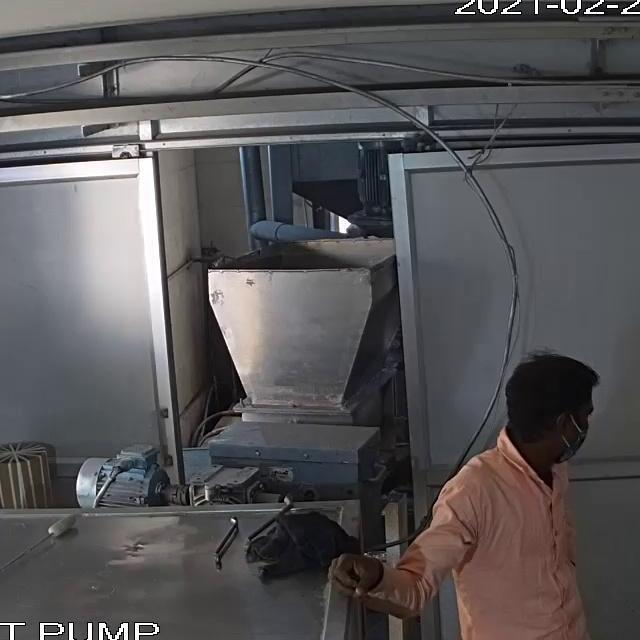Mask: (562, 420, 587, 460)
NO-Hardhat: (506, 352, 599, 396)
NO-Safety Vest: (453, 454, 592, 640)
Person: (323, 348, 594, 640)
